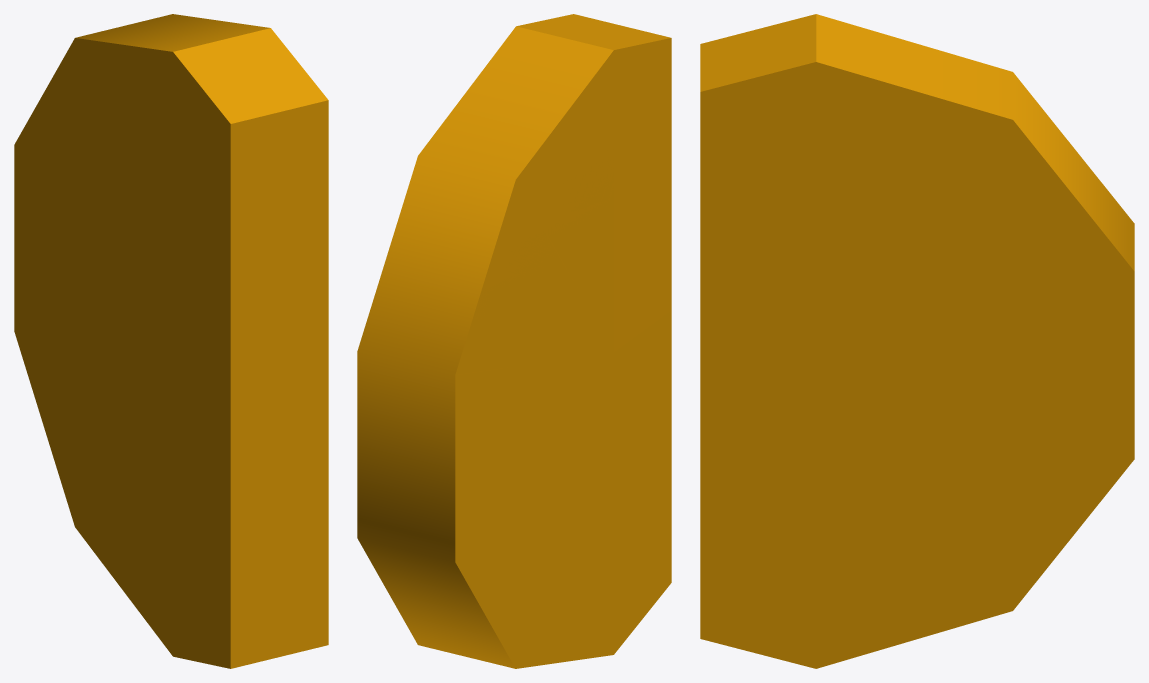
The model's file is Frieze_S_02.fbx.
3 renders of one model, left to right at view 1: azimuth 30°, elevation 25°; view 2: azimuth 150°, elevation 25°; view 3: azimuth 270°, elevation 25°, orthographic.
Visible parts, largest first — view 1: Frieze_S_02; view 2: Frieze_S_02; view 3: Frieze_S_02.
Boxes of the visible parts, left/top/right/bottom form: Frieze_S_02: left=14, top=14, right=328, bottom=668; Frieze_S_02: left=357, top=14, right=671, bottom=668; Frieze_S_02: left=700, top=14, right=1134, bottom=668.
Size of the model in its own units: 14.89 by 87.9 by 57.01.
